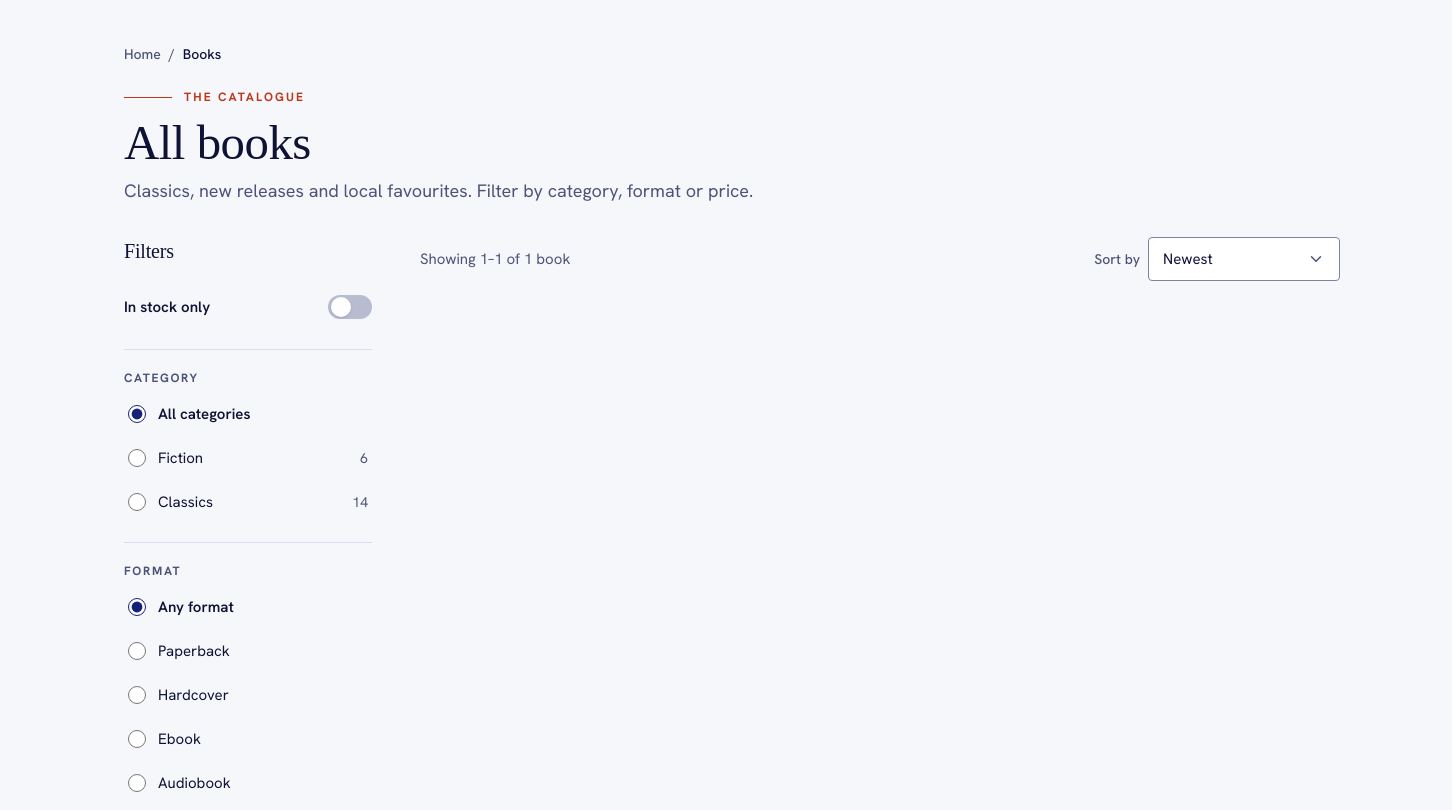
Test: BooksPage › writes a filter change to the URL and resets the page
Click the radio button labelled "Fiction 6": [137, 458] box [128,449,146,467]
(page scrolled)
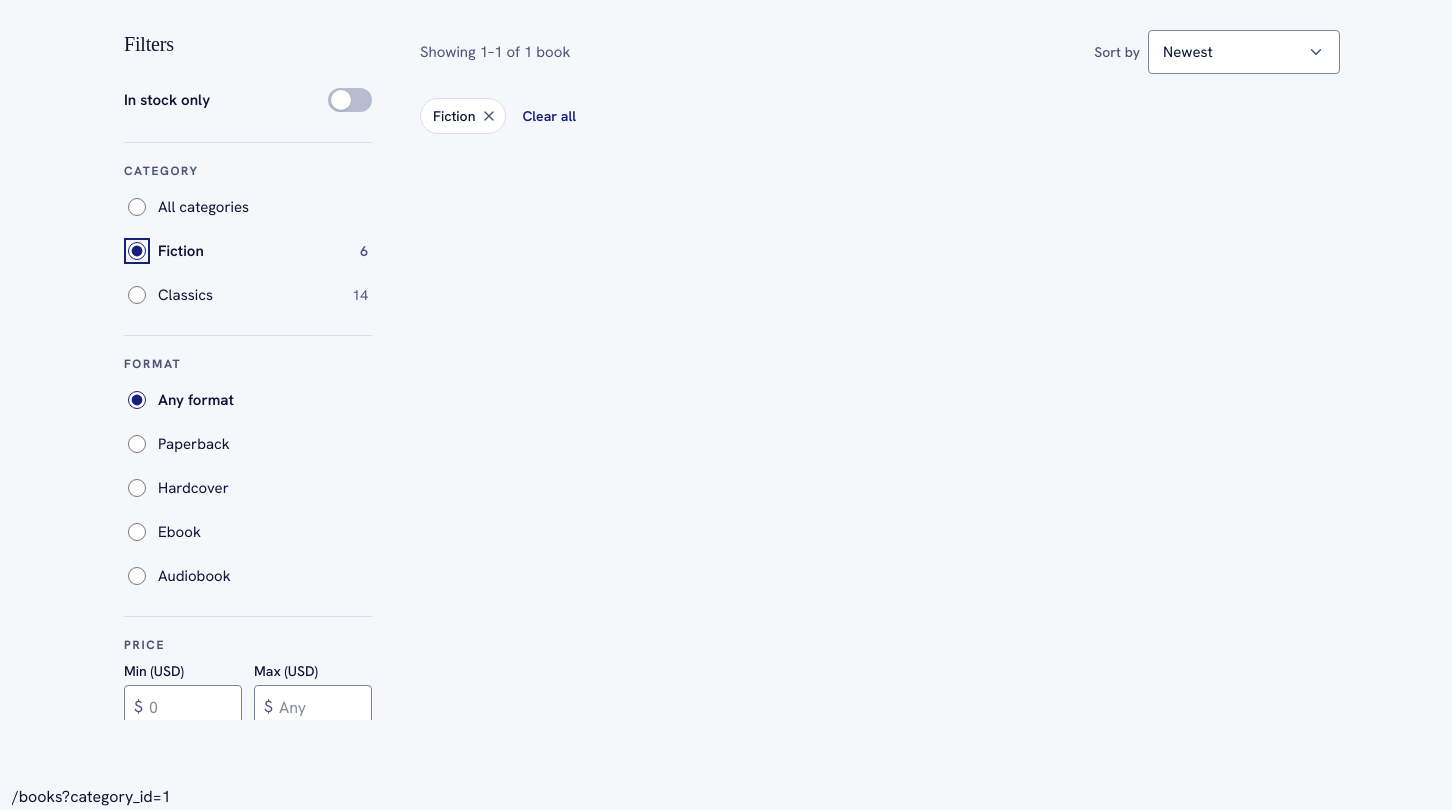
expect the text with test id "where" reads "/books?category_id=1": met, box [12,786,171,807]
